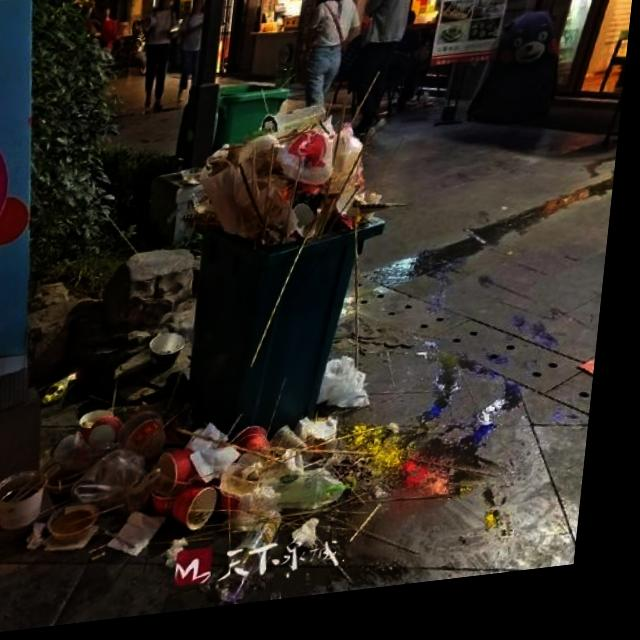garbage: (0, 308, 454, 635)
garbage_bin: (216, 85, 293, 153)
overflow: (170, 76, 404, 450)
